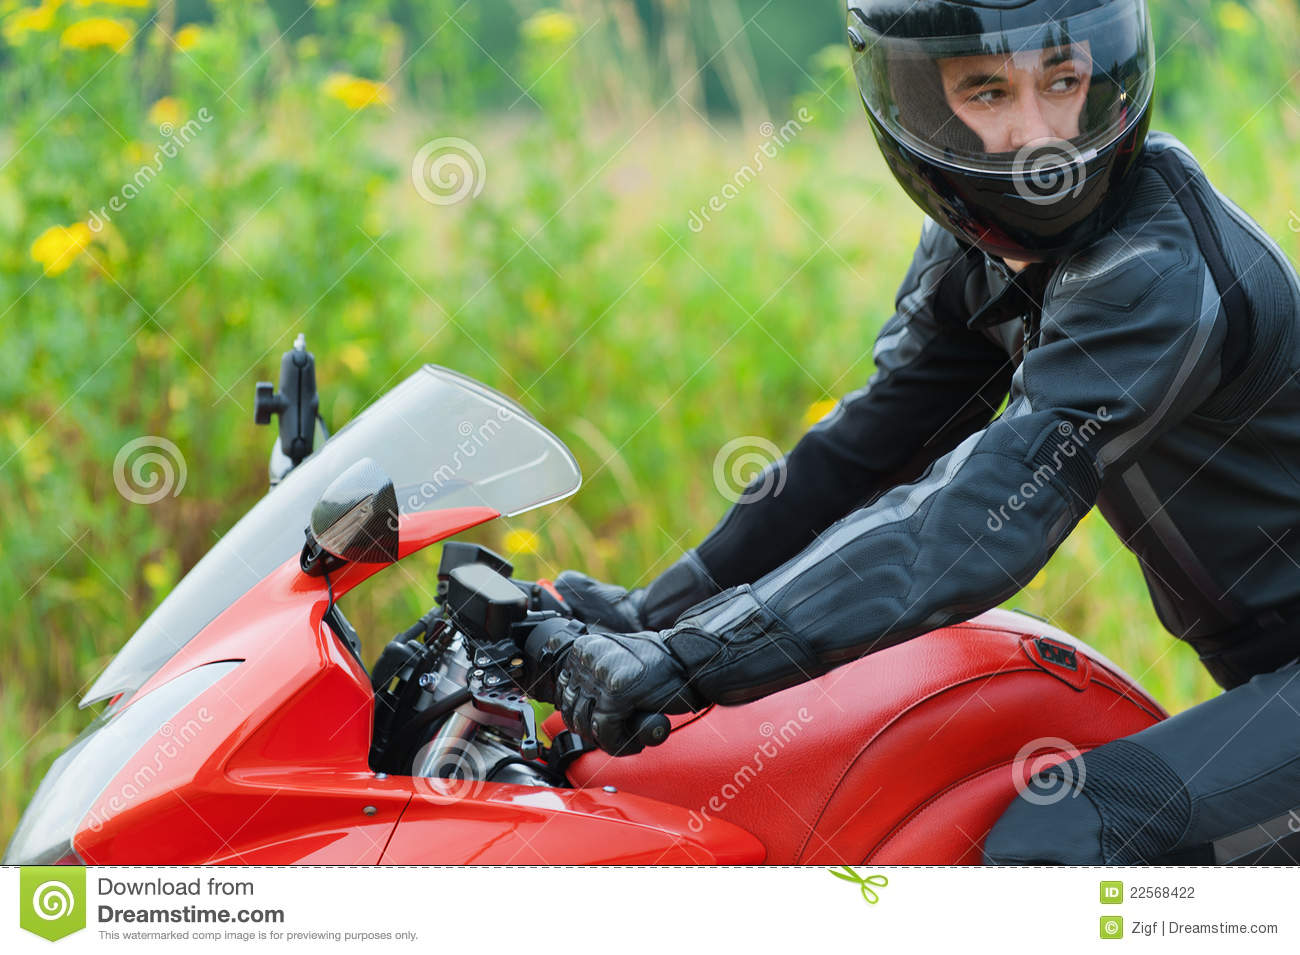helmet: (836, 1, 1182, 216)
